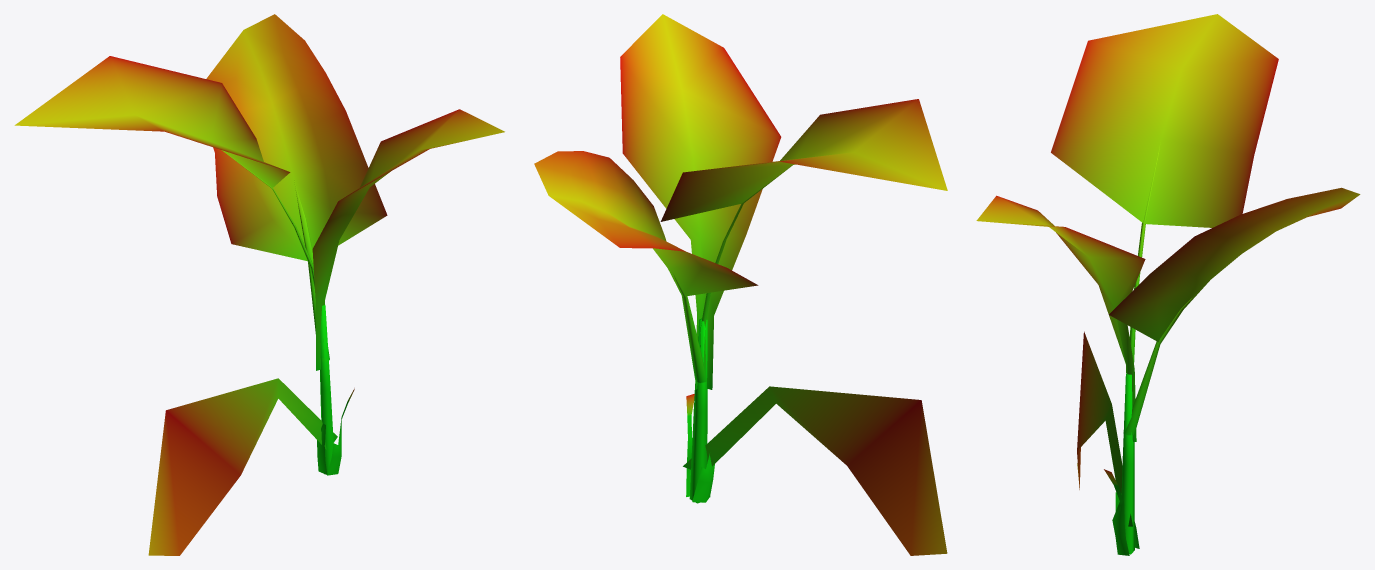
The model's file is Cat Palm_LOD3_Var3_tjejafeia.fbx.
3 renders of one model, left to right at view 1: azimuth 30°, elevation 25°; view 2: azimuth 150°, elevation 25°; view 3: azimuth 270°, elevation 25°, orthographic. The views are drawn at different scales.
Visible parts, largest first — view 1: _7188_Var3_LOD3; view 2: _7188_Var3_LOD3; view 3: _7188_Var3_LOD3.
Boxes of the visible parts, <box> form: _7188_Var3_LOD3: <box>14,14,504,555</box>; _7188_Var3_LOD3: <box>534,14,947,555</box>; _7188_Var3_LOD3: <box>976,14,1360,555</box>.
Bounding box in the file's own units: 78.24 × 84.34 × 66.04.
